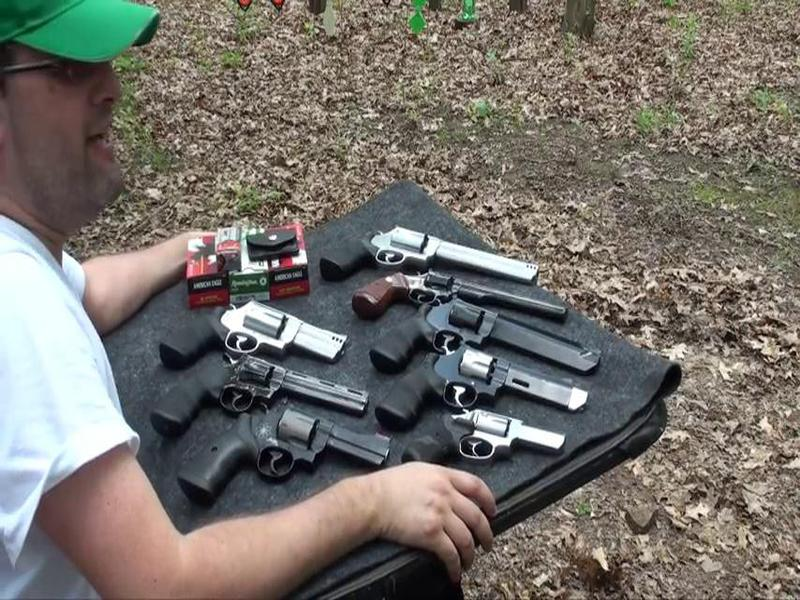Revolver: (357, 289, 607, 383)
